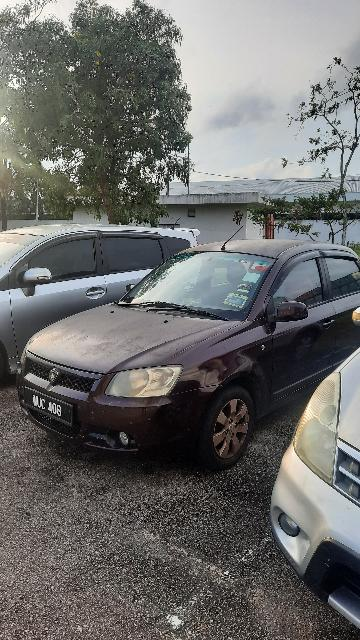License_Plate: (21, 382, 78, 431)
car: (11, 238, 360, 476), (1, 224, 209, 382), (281, 303, 360, 623)
